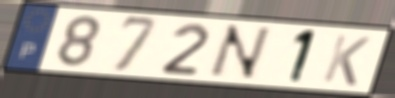1: (286, 28, 320, 87)
2: (157, 21, 211, 78)
7: (113, 13, 159, 75)
8: (54, 14, 103, 69)
K: (318, 32, 374, 88)
N: (203, 23, 275, 82)
